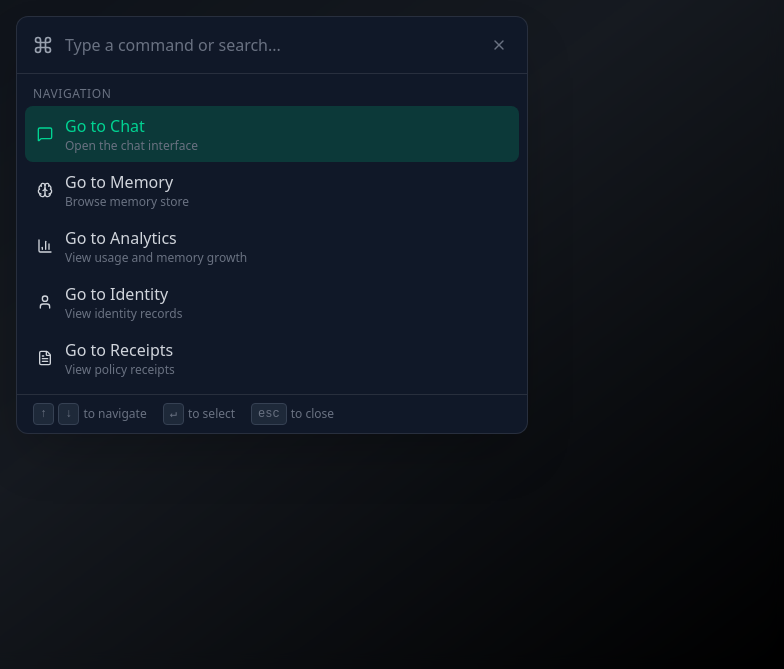
Test: CommandPalette › performs memory search
The image size is (784, 669).
Type "search: test" into the field with placeholder "Type a command or search...".
click(270, 45); type("search: test")  # box [65,33,475,57]
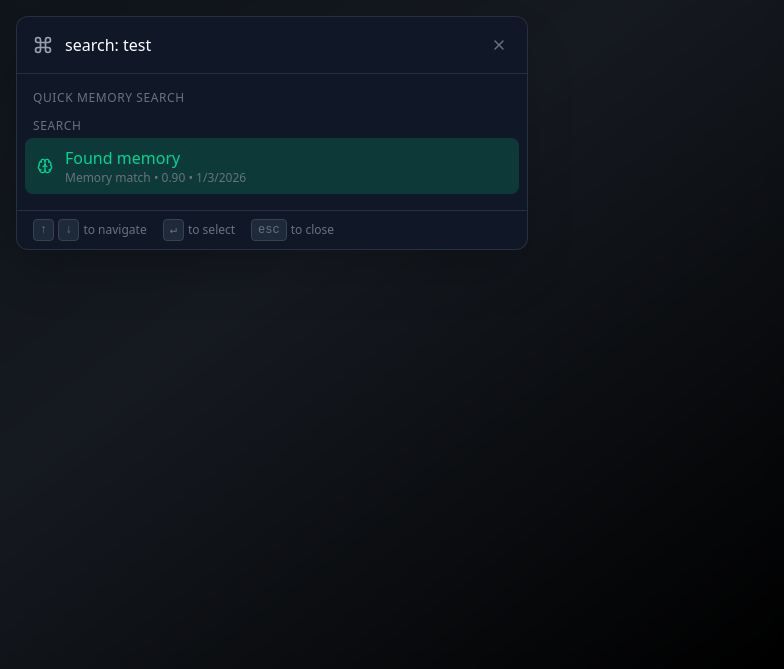
Expected: the text "Found memory" is shown, [65,147,180,169]
